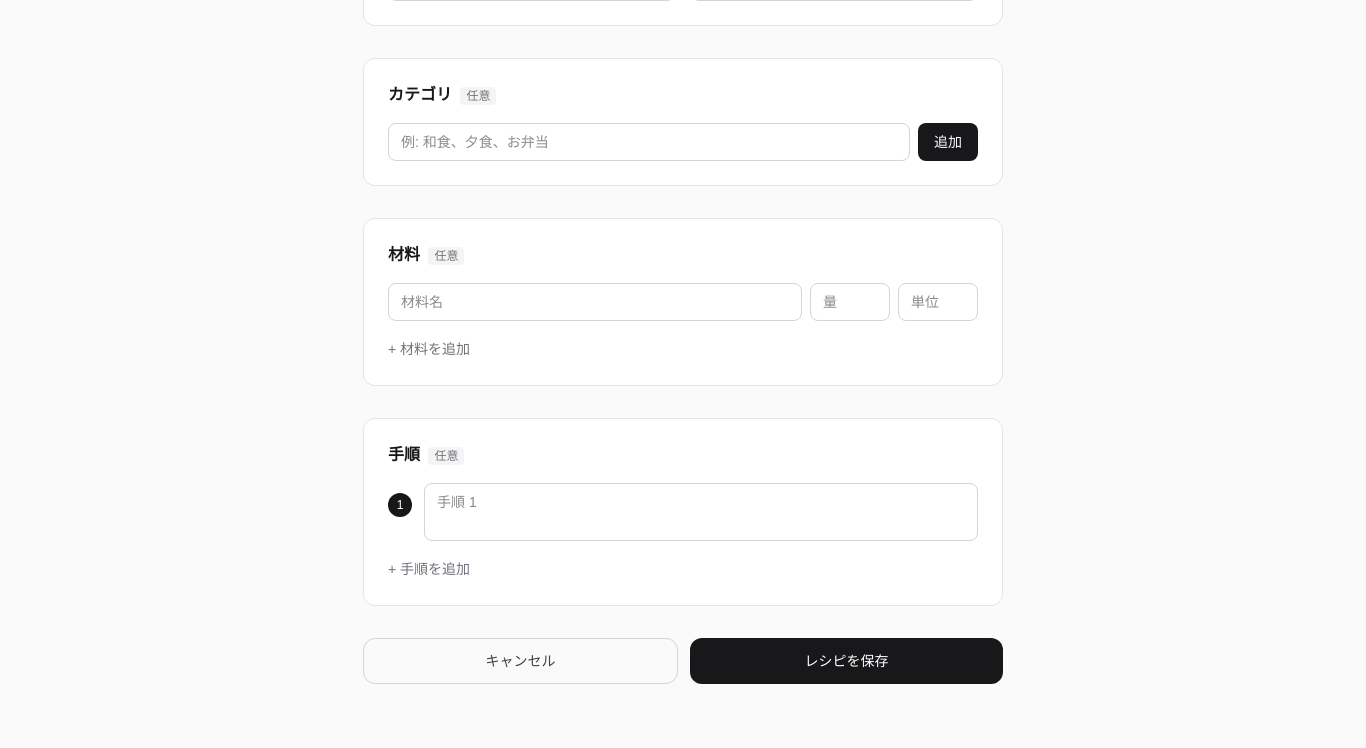
Scenario: FromUrlPage › タイトル空で送信: エラーが表示される
(page scrolled)
Click the button "レシピを保存" at (846, 661), box x1=690 y1=638 x2=1003 y2=684
(page scrolled)
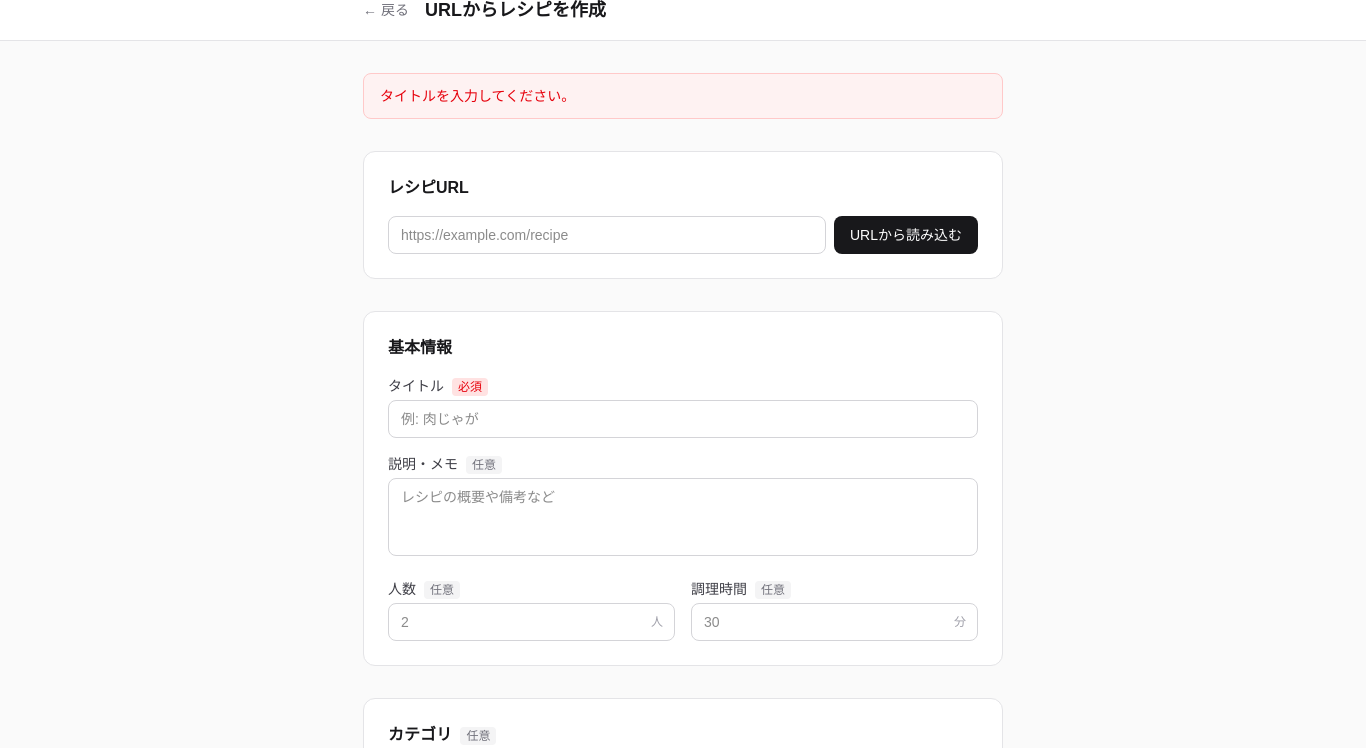
Now the text "タイトルを入力してください。" is shown, box x1=363 y1=73 x2=1003 y2=119
